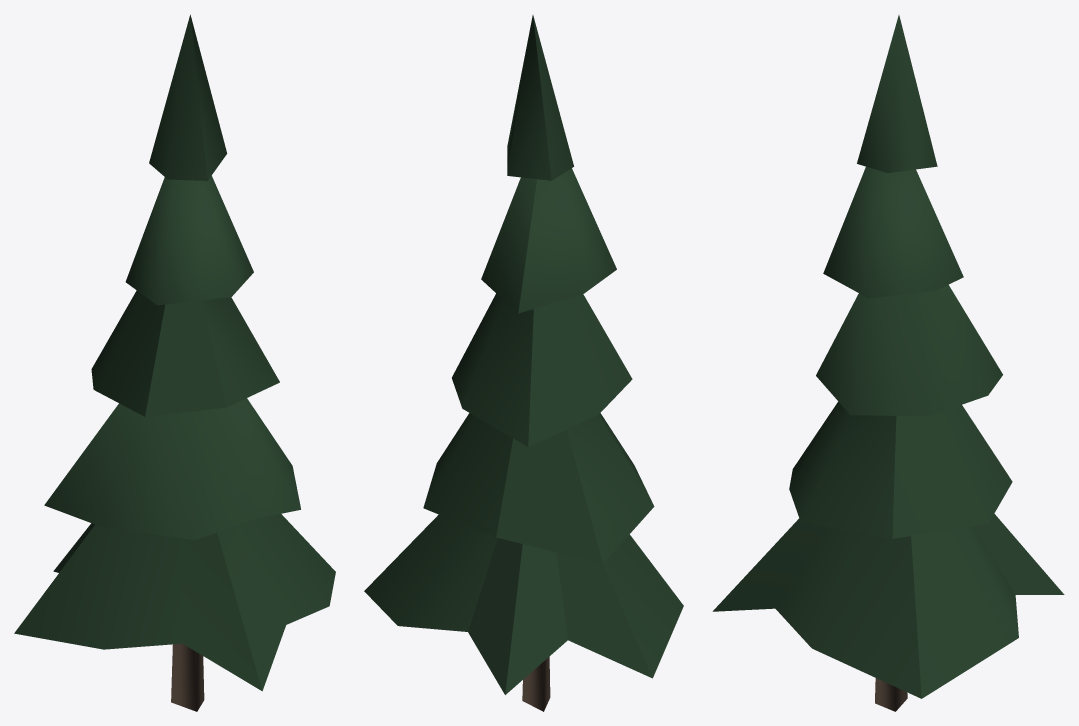
File: pine_LOD1.glb
The picture shows the model from 3 angles, left to right: view 1: azimuth 30°, elevation 25°; view 2: azimuth 150°, elevation 25°; view 3: azimuth 270°, elevation 25°; orthographic projection.
Parts seen in each view (by area): view 1: Body_LOD1; view 2: Body_LOD1; view 3: Body_LOD1.
Boxes of the visible parts, x1,y1,x2,y2 form: Body_LOD1: (14,14,335,711); Body_LOD1: (364,15,683,711); Body_LOD1: (712,15,1064,711).
Bounding box in the file's own units: 4.77 × 10.3 × 4.76.
